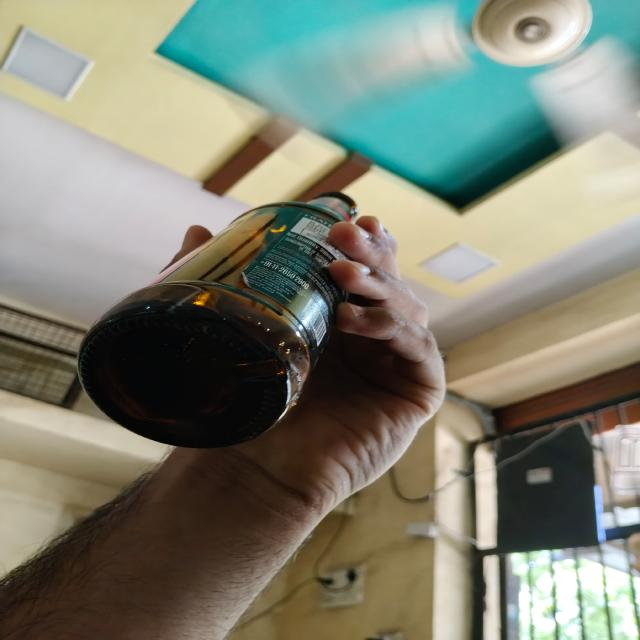Alcohol-Bottle-Detection: (69, 181, 342, 440)
